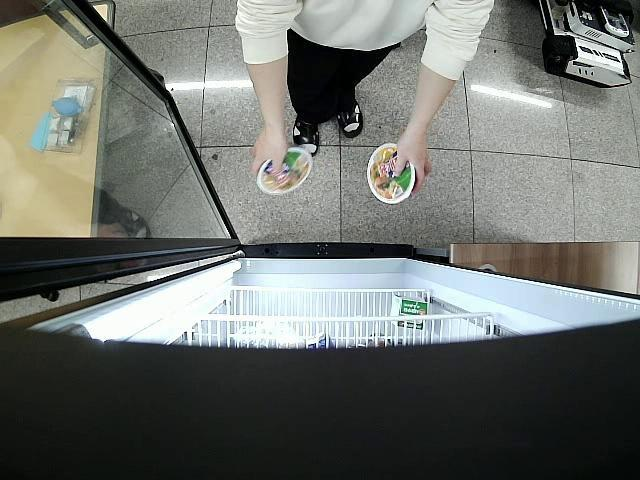09_yukGaeJang: (366, 142, 417, 204), (256, 148, 313, 195)
